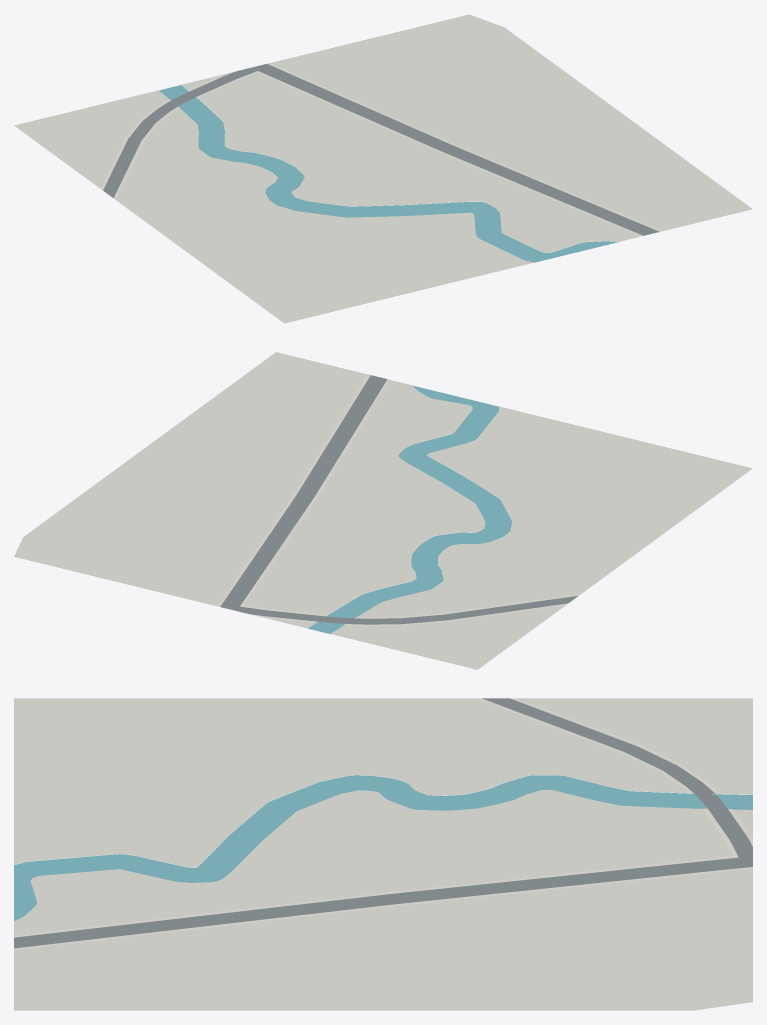
The picture shows the model from 3 angles, top to bottom: view 1: azimuth 30°, elevation 25°; view 2: azimuth 150°, elevation 25°; view 3: azimuth 270°, elevation 25°; orthographic projection. The views are drawn at different scales.
Parts seen in each view (by area): view 1: city; view 2: city; view 3: city.
Boxes of the visible parts, x1,y1,x2,y2 form: city: (14,14,752,323); city: (14,352,752,669); city: (14,698,752,1010).
Bounding box in the file's own units: 500 × 0.4 × 500.
